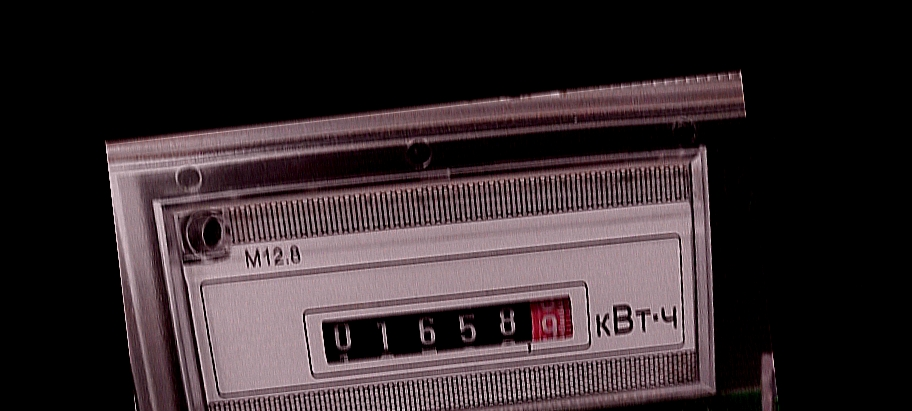0: (334, 318, 357, 350)
1: (377, 316, 397, 350)
5: (458, 308, 483, 342)
6: (418, 310, 442, 345)
8: (499, 301, 522, 335)
9: (540, 310, 564, 341)
screen: (295, 268, 603, 385)
